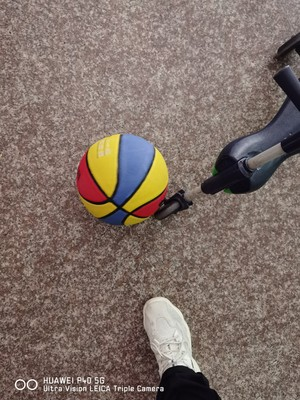ball: (76, 133, 171, 228)
